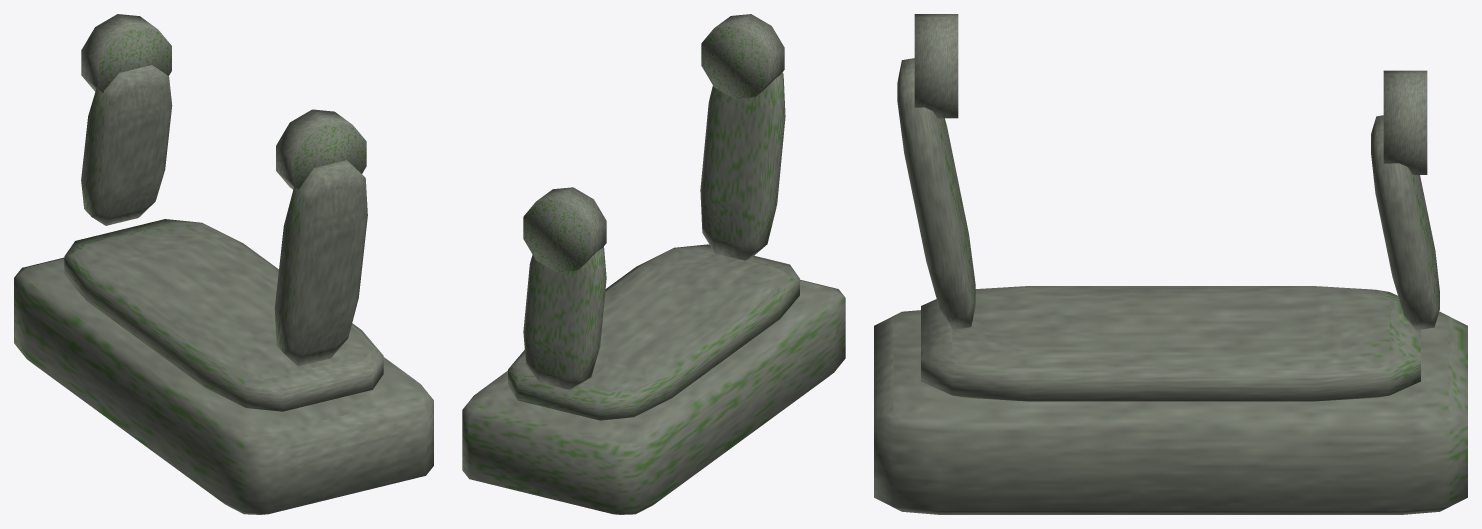
File: prop_nisan_kuno_b.glb
3 renders of one model, left to right at view 1: azimuth 30°, elevation 25°; view 2: azimuth 150°, elevation 25°; view 3: azimuth 270°, elevation 25°, orthographic. The views are drawn at different scales.
Visible parts, largest first — view 1: nisan_kuno_b; view 2: nisan_kuno_b; view 3: nisan_kuno_b.
Boxes of the visible parts, x1,y1,x2,y2 form: nisan_kuno_b: (14, 14, 433, 514); nisan_kuno_b: (462, 14, 845, 514); nisan_kuno_b: (874, 14, 1467, 514).
Bounding box in the file's own units: 0.9 × 1.57 × 1.9.
Materials: 1 (1 with a texture image).
